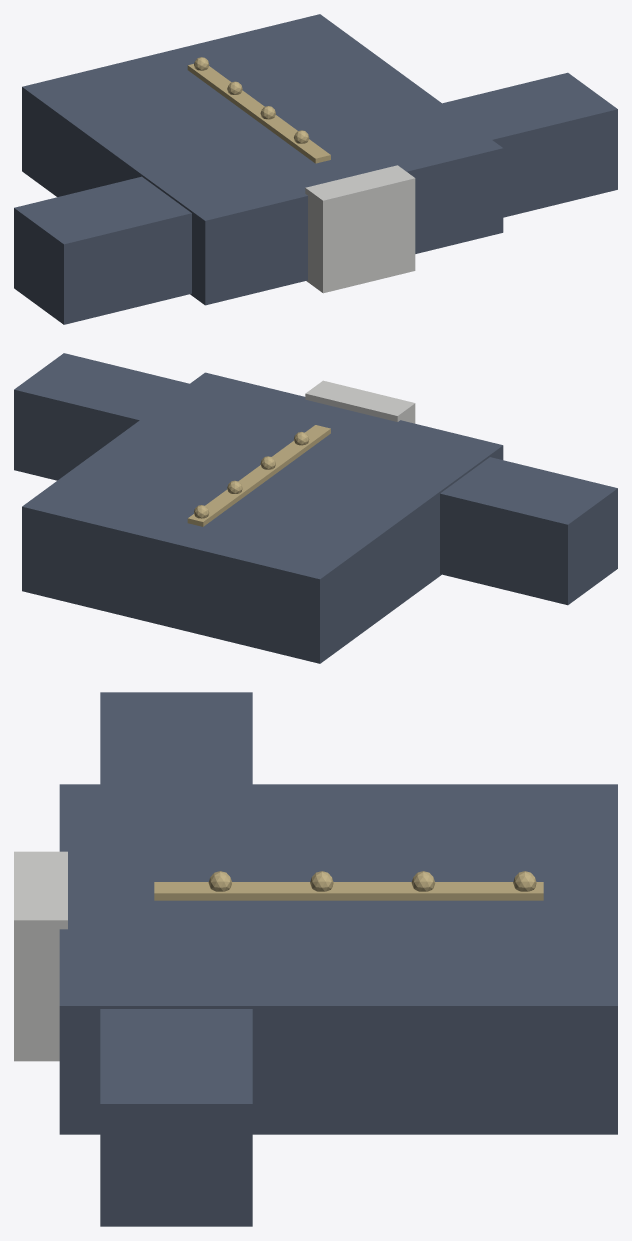
The model's file is fnfy-shirt.glb.
3 renders of one model, top to bottom at view 1: azimuth 30°, elevation 25°; view 2: azimuth 150°, elevation 25°; view 3: azimuth 270°, elevation 25°, orthographic. The views are drawn at different scales.
Parts seen in each view (by area): view 1: shirt_body, shirt_left_sleeve, shirt_right_sleeve, shirt_collar, shirt_placket; view 2: shirt_body, shirt_left_sleeve, shirt_right_sleeve, shirt_collar, shirt_placket; view 3: shirt_body, shirt_right_sleeve, shirt_left_sleeve, shirt_collar, shirt_placket.
Boxes of the visible parts, x1=… form: shirt_body: x1=22, y1=14, x2=503, y2=305; shirt_left_sleeve: x1=14, y1=176, x2=191, y2=324; shirt_right_sleeve: x1=442, y1=72, x2=617, y2=217; shirt_collar: x1=305, y1=165, x2=415, y2=293; shirt_placket: x1=187, y1=64, x2=330, y2=163; shirt_body: x1=22, y1=372, x2=503, y2=663; shirt_left_sleeve: x1=440, y1=457, x2=617, y2=605; shirt_right_sleeve: x1=14, y1=353, x2=189, y2=480; shirt_collar: x1=305, y1=380, x2=415, y2=423; shirt_placket: x1=187, y1=425, x2=330, y2=526; shirt_body: x1=59, y1=784, x2=617, y2=1134; shirt_right_sleeve: x1=100, y1=1009, x2=252, y2=1226; shirt_left_sleeve: x1=100, y1=692, x2=252, y2=784; shirt_collar: x1=14, y1=851, x2=67, y2=1061; shirt_placket: x1=154, y1=882, x2=543, y2=900.
Size of the model in its own units: 2.88 by 0.505 by 1.78.
